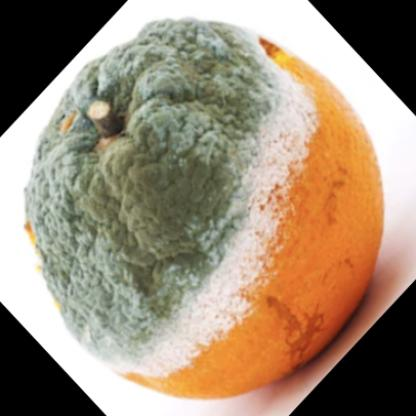rotten: (28, 19, 384, 401)
